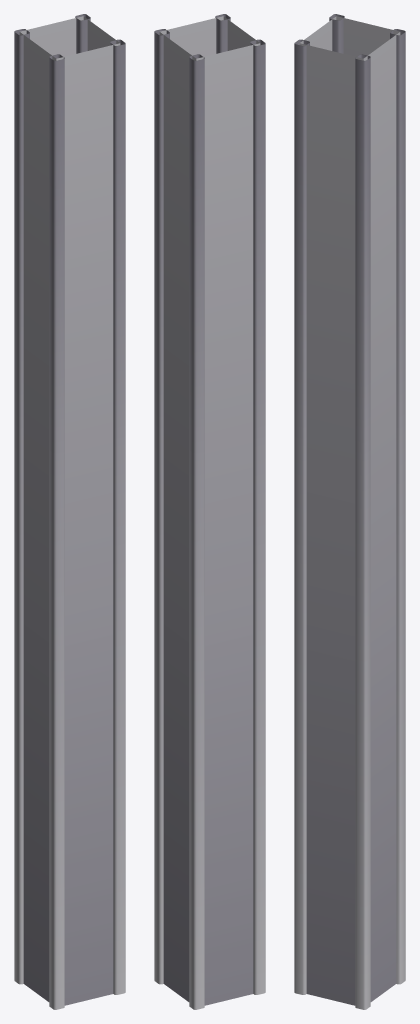
Rendered from General_PoleBaked2.fbx.
The picture shows the model from 3 angles, left to right: view 1: azimuth 30°, elevation 25°; view 2: azimuth 210°, elevation 25°; view 3: azimuth 330°, elevation 25°; orthographic projection.
Parts seen in each view (by area): view 1: General_PoleBaked2; view 2: General_PoleBaked2; view 3: General_PoleBaked2.
Part boxes in pixels (x1,y1,x2,y2): General_PoleBaked2: [14, 14, 125, 1009]; General_PoleBaked2: [154, 14, 265, 1009]; General_PoleBaked2: [294, 14, 405, 1009].
Size of the model in its own units: 63.73 by 805 by 63.3.
